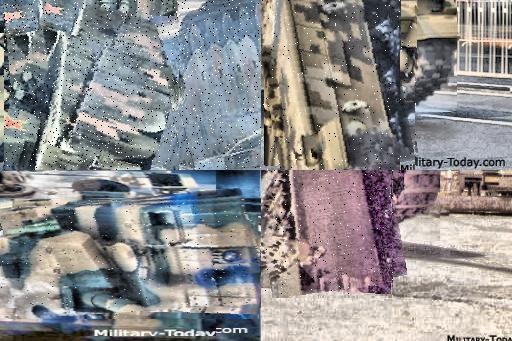tanks: (5, 2, 234, 171), (1, 201, 261, 319), (262, 1, 417, 171), (262, 171, 394, 298), (181, 1, 262, 171), (1, 7, 77, 171)
